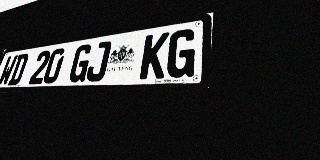0: (42, 47, 66, 84)
2: (28, 50, 52, 84)
D: (7, 53, 30, 85)
G: (165, 28, 198, 78), (67, 43, 94, 83)
J: (85, 41, 112, 82)
K: (139, 32, 170, 79)
W: (0, 55, 18, 86)
